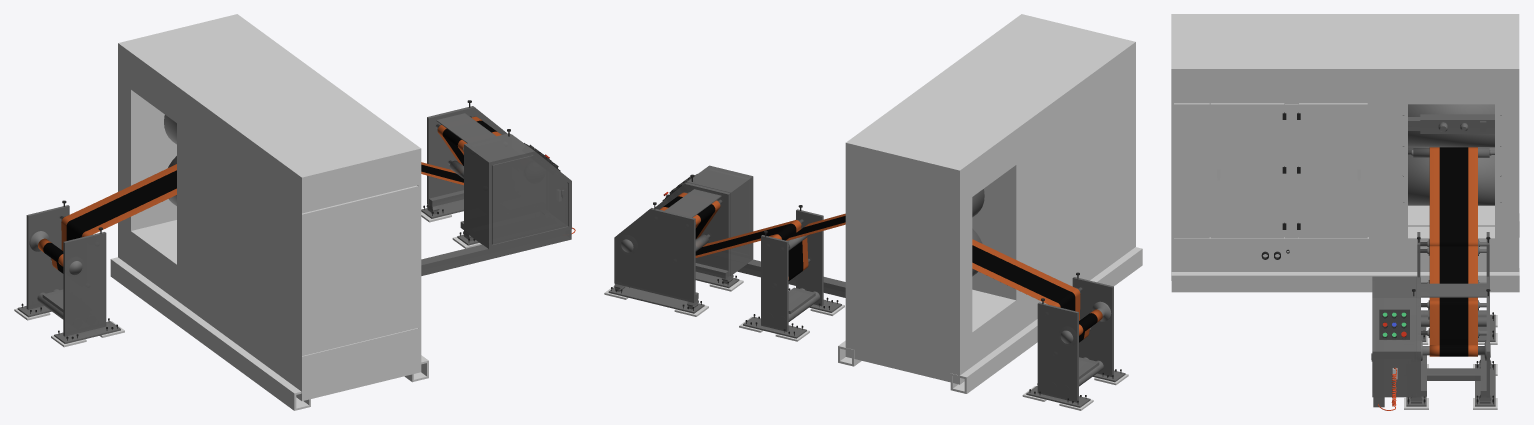
Rendered from 압연텍스쳐수정완 최종수정.fbx.
3 renders of one model, left to right at view 1: azimuth 30°, elevation 25°; view 2: azimuth 150°, elevation 25°; view 3: azimuth 270°, elevation 25°, orthographic. The views are drawn at different scales.
Visible parts, largest first — view 1: 본체, 코일(슬러지); view 2: 본체, 코일(슬러지); view 3: 본체, 코일(슬러지), bloller(1), broller(2), sroller(8).
Part boxes in pixels (x1,y1,x2,y2): 본체: (14,14,575,410); 코일(슬러지): (38,116,501,273); 본체: (604,14,1142,410); 코일(슬러지): (660,192,1102,342); 본체: (1171,14,1519,410); 코일(슬러지): (1429,147,1477,356); bloller(1): (1408,104,1494,147); broller(2): (1408,147,1494,205); sroller(8): (1408,148,1494,157).
Bounding box in the file's own units: 1209 × 533 × 766.
